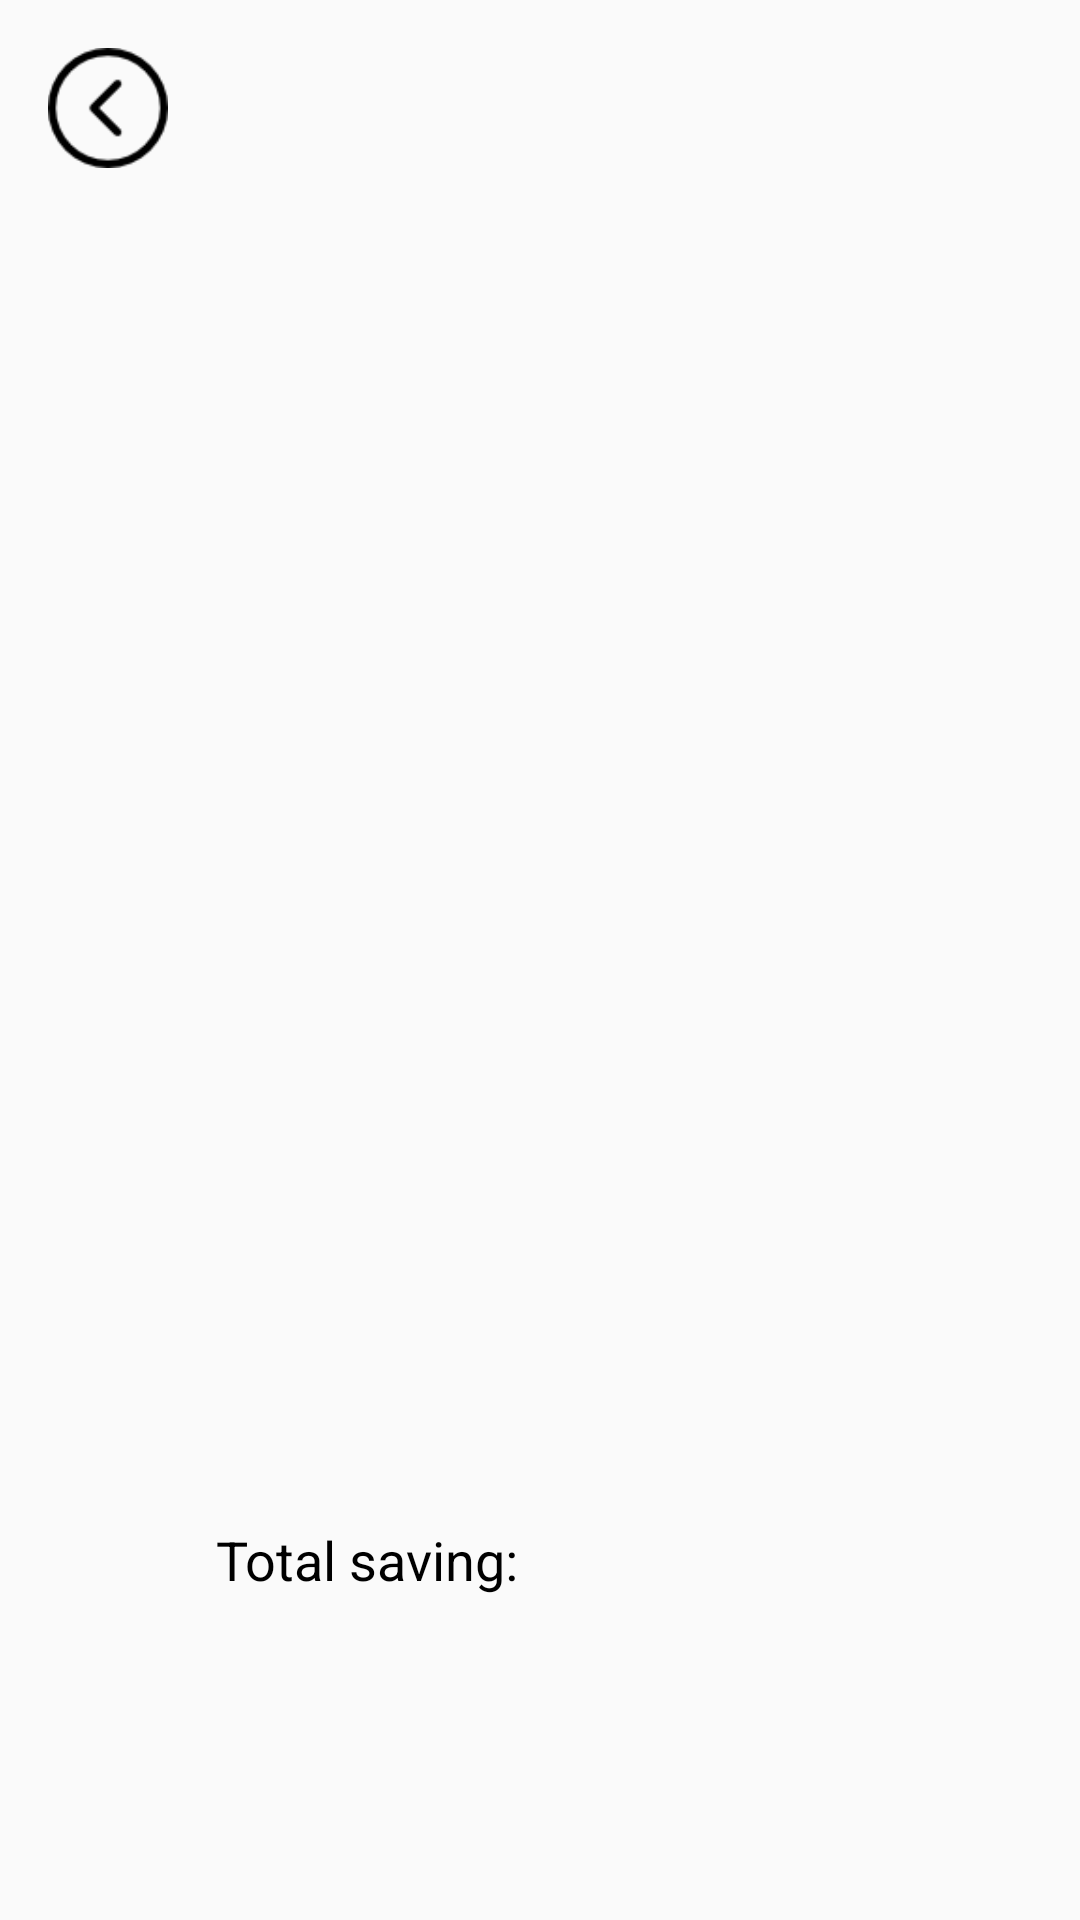

Icon click points for this 1080 × 1920 phone screenshot, format [x,y]:
roundleftbutton: [108,108]
